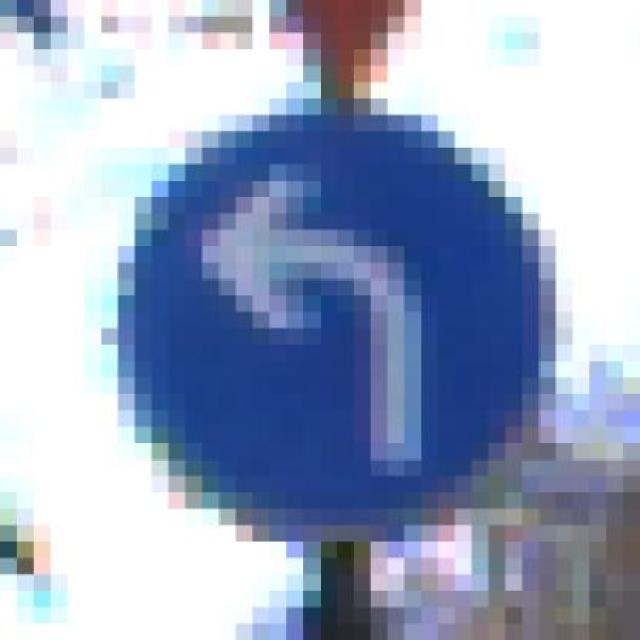Turn left ahead: (101, 99, 573, 542)
